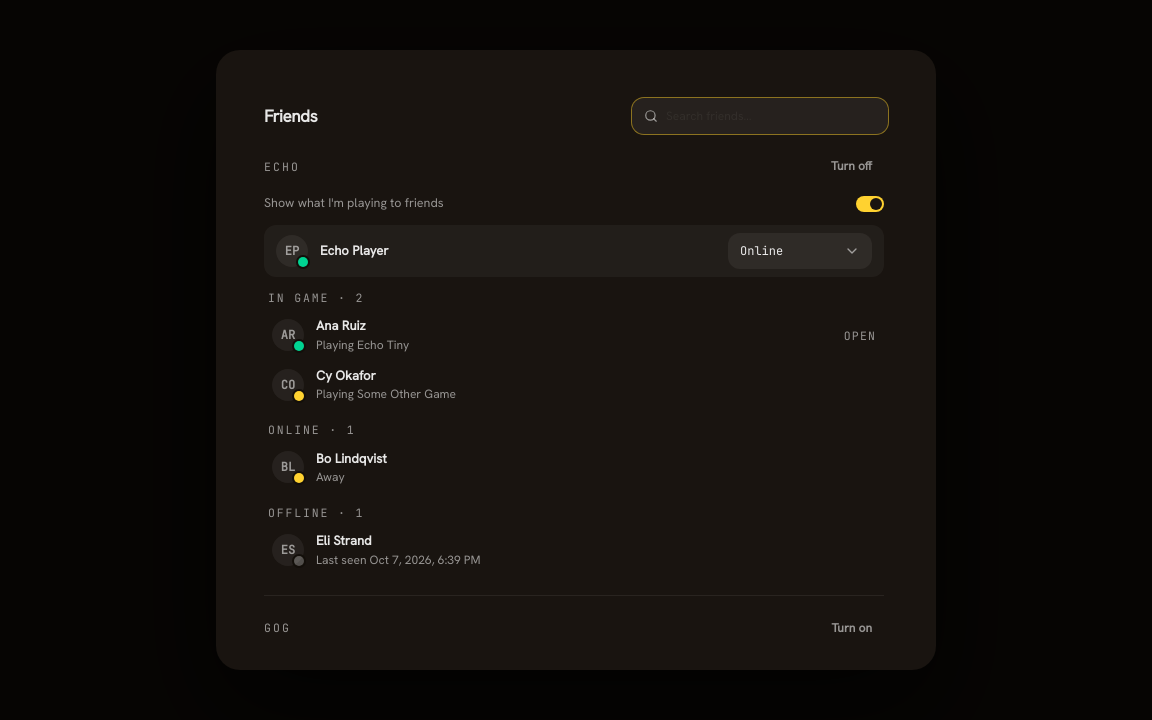
Test: FriendsModal › searches every store at once
Type "eli" into the search field labelled "Search friends" at (760, 116), box [632,98,888,134]
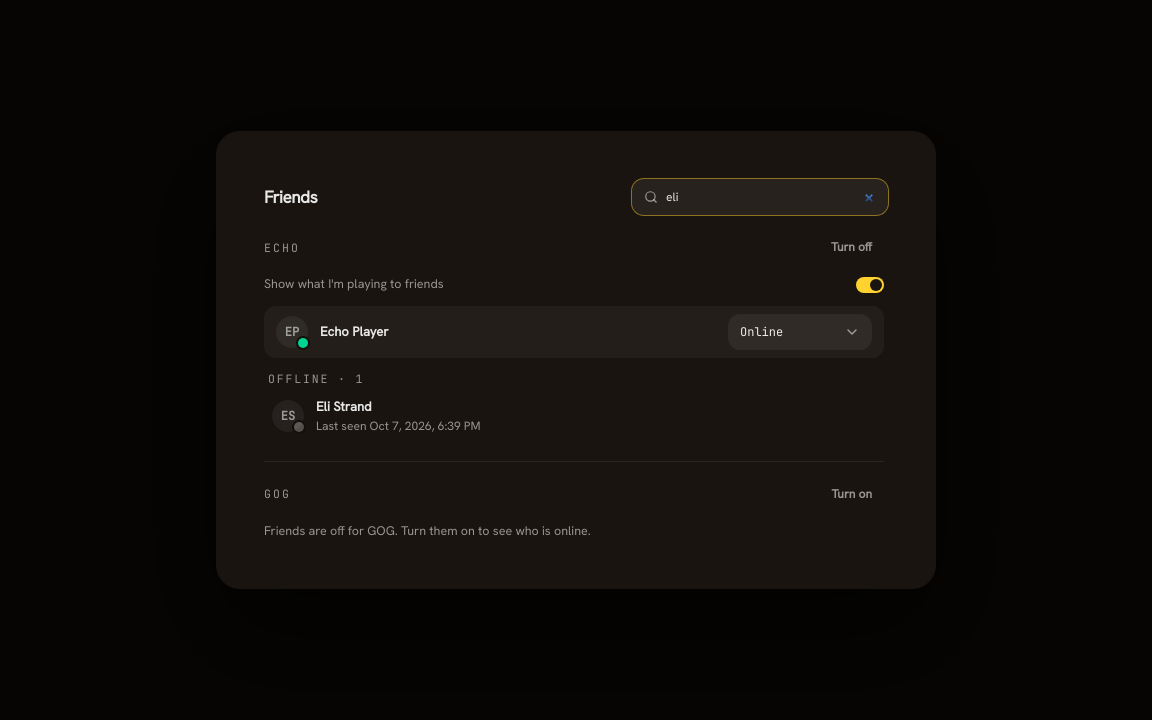
Expected: the text "Eli Strand" is shown, [316,398,372,415]
Result: the text "Ana Ruiz" is gone
Replace the text in the search field named "Search friends" with "nobody" at (760, 197), box [632,179,888,215]
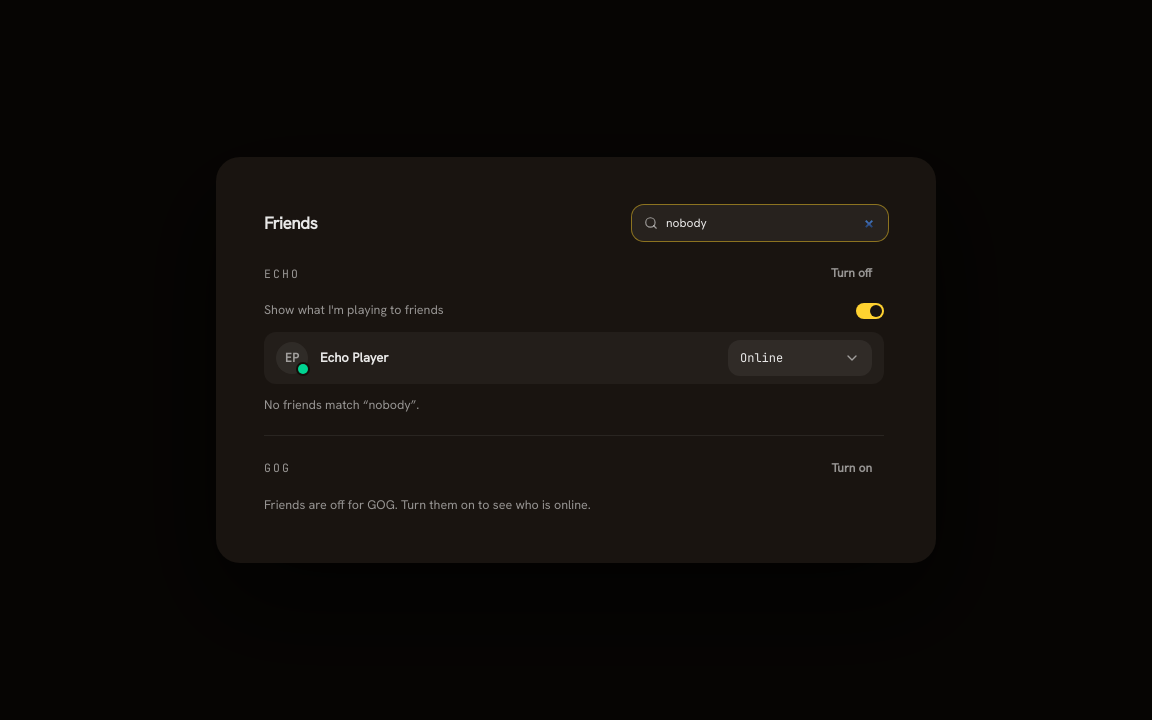
Result: the text "No friends match “nobody”." is shown at [264,396,419,413]
